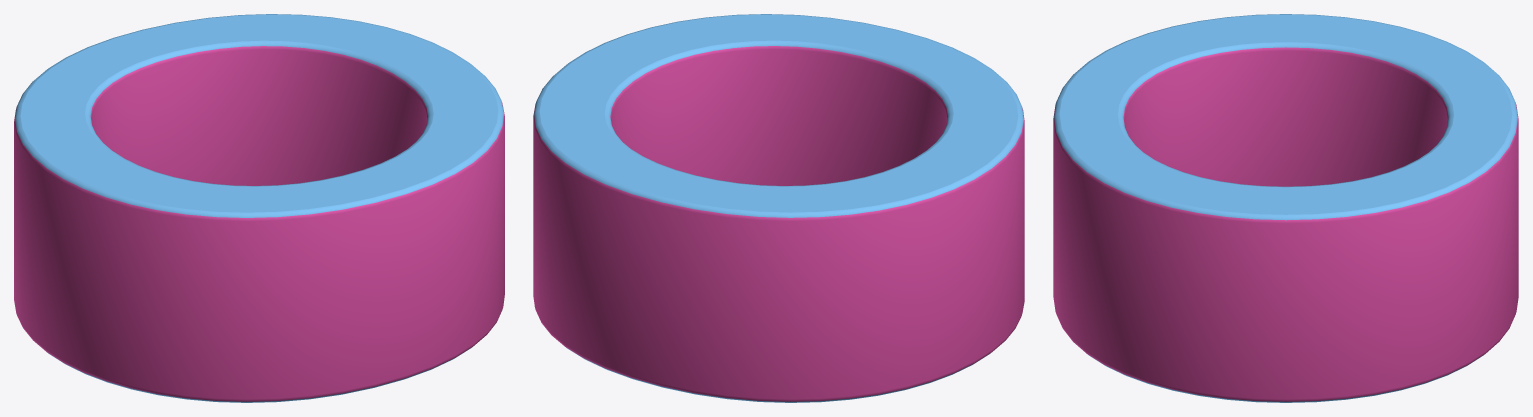
Rendered from letter_O.fbx.
The picture shows the model from 3 angles, left to right: view 1: azimuth 30°, elevation 25°; view 2: azimuth 150°, elevation 25°; view 3: azimuth 270°, elevation 25°; orthographic projection.
Parts seen in each view (by area): view 1: Letter_O; view 2: Letter_O; view 3: Letter_O.
Part boxes in pixels (left/top/right/bottom): Letter_O: left=14, top=14, right=504, bottom=402; Letter_O: left=533, top=14, right=1024, bottom=402; Letter_O: left=1053, top=14, right=1518, bottom=402.
Bounding box in the file's own units: 75.3 × 32 × 72.
